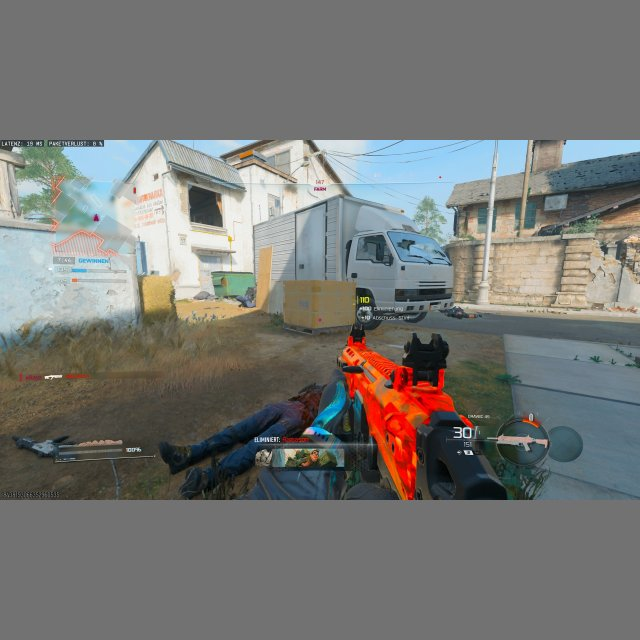player: (242, 286, 256, 307)
